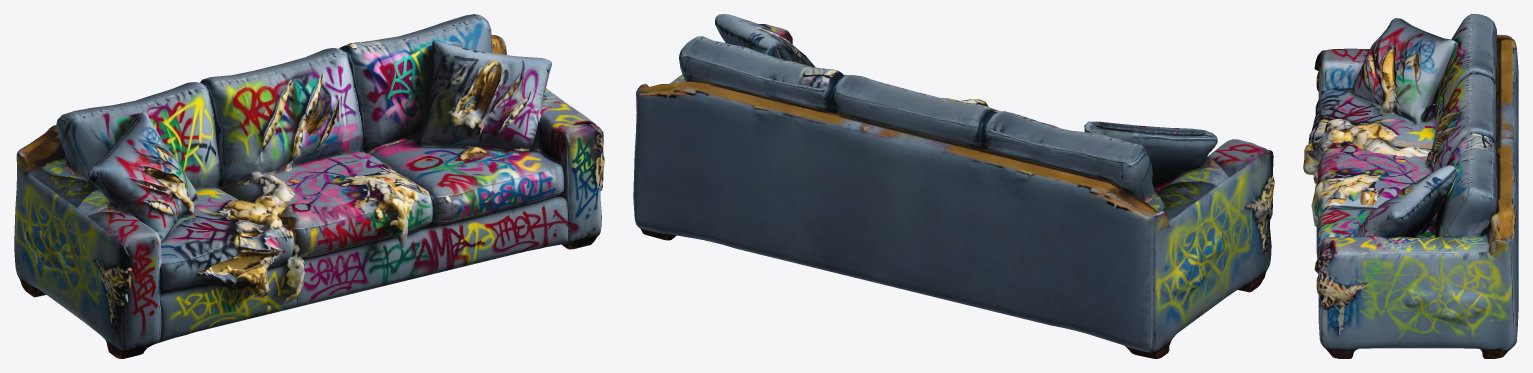
Rendered from couch1.glb.
The picture shows the model from 3 angles, left to right: view 1: azimuth 30°, elevation 25°; view 2: azimuth 150°, elevation 25°; view 3: azimuth 270°, elevation 25°; orthographic projection. The views are drawn at different scales.
Bounding box in the file's own units: 1.91 × 0.6614 × 0.818.
1 material, 1 textured.
